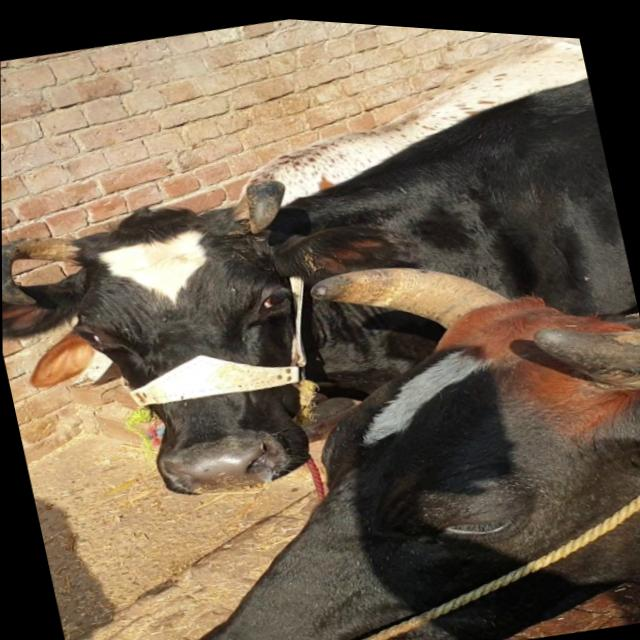cowFace: (132, 255, 640, 640), (1, 151, 351, 538)
